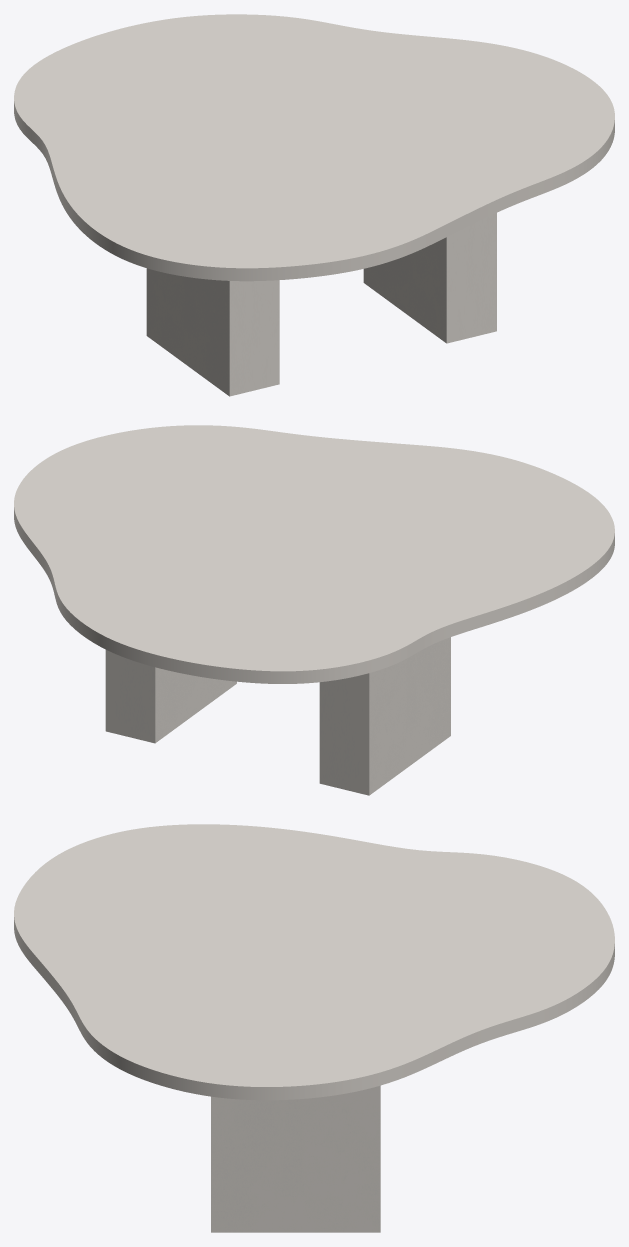
File: pearlwhite_topone_standard_ridge.glb
3 views of the same model, one above another, from view 1: azimuth 30°, elevation 25°; view 2: azimuth 150°, elevation 25°; view 3: azimuth 270°, elevation 25° (orthographic). The views are drawn at different scales.
Parts seen in each view (by area): view 1: standard_topone, ridge; view 2: standard_topone, ridge; view 3: standard_topone, ridge.
Part boxes in pixels (left/top/right/bottom): standard_topone: left=14, top=14, right=614, bottom=281; ridge: left=146, top=213, right=496, bottom=396; standard_topone: left=14, top=425, right=614, bottom=683; ridge: left=105, top=637, right=450, bottom=795; standard_topone: left=14, top=824, right=614, bottom=1100; ridge: left=211, top=1085, right=380, bottom=1232.
Size of the model in its own units: 6.83 by 2.5 by 6.6.
1 material, 1 textured.
